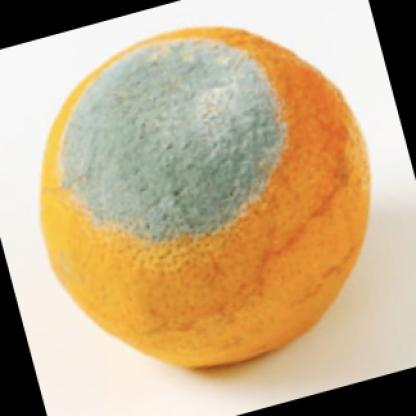rotten: (42, 27, 373, 368)
